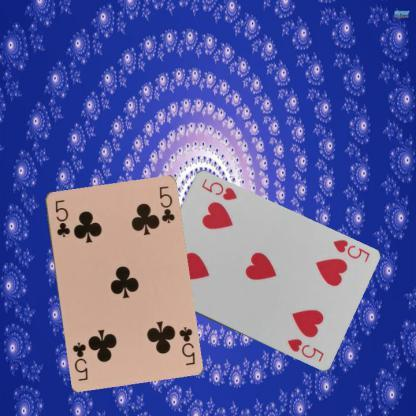5c: (176, 324, 196, 366), (52, 197, 71, 239)
5h: (330, 236, 371, 264)
